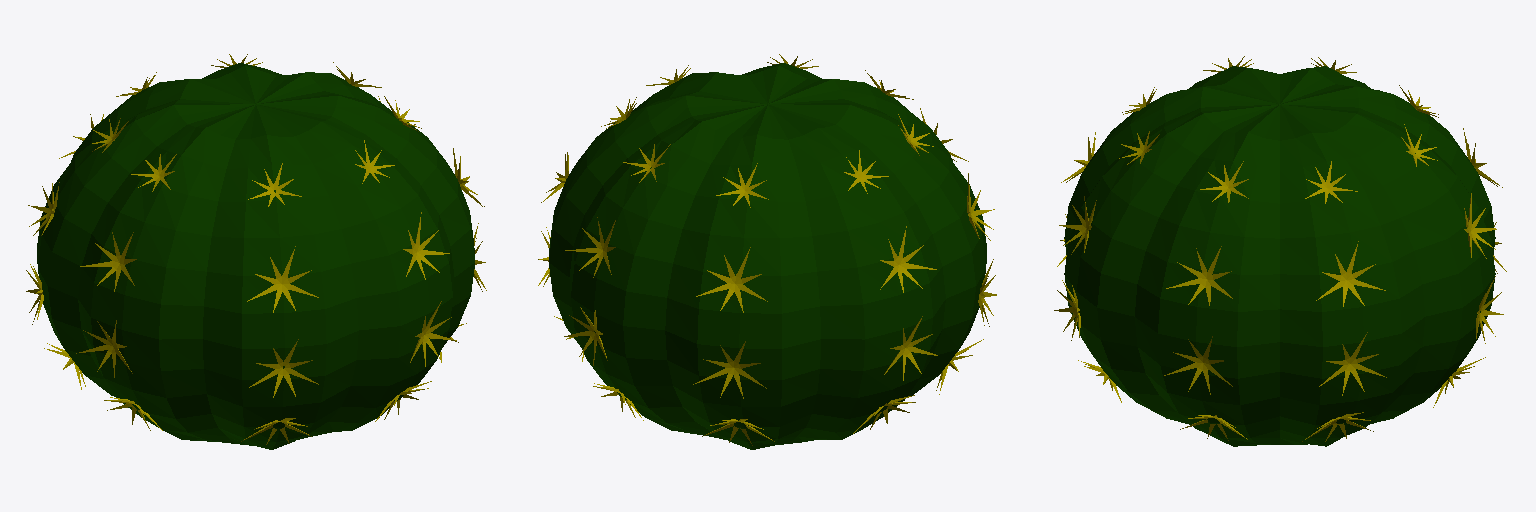
Rendered from cactus3.obj.
3 renders of one model, left to right at view 1: azimuth 30°, elevation 25°; view 2: azimuth 150°, elevation 25°; view 3: azimuth 270°, elevation 25°, orthographic.
Parts seen in each view (by area): view 1: Barrel.002_.008; view 2: Barrel.002_.008; view 3: Barrel.002_.008.
Boxes of the visible parts, x1=… form: Barrel.002_.008: x1=26, y1=54, x2=486, y2=449; Barrel.002_.008: x1=538, y1=54, x2=996, y2=449; Barrel.002_.008: x1=1054, y1=56, x2=1506, y2=446.
Bounding box in the file's own units: 1.56 × 1.17 × 1.55.